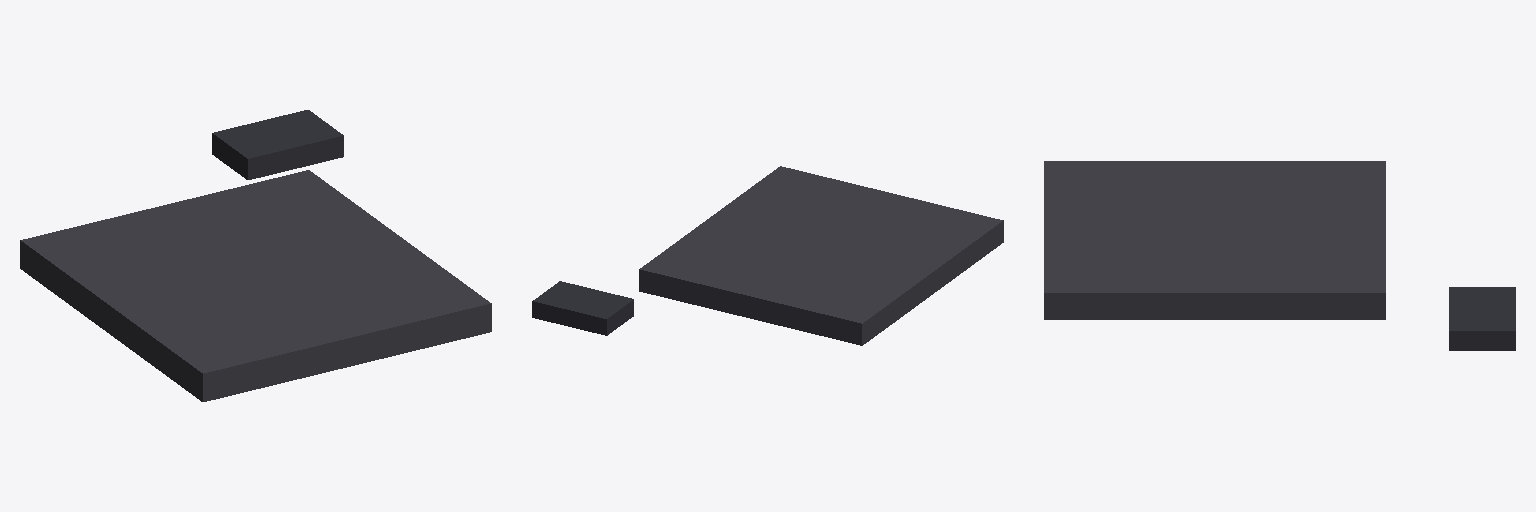
The robot description file, URDF, robot "fixtures":
<?xml version="1.0"?>
<!-- GENERATED by build_scene.py: edit the generator, not this file. -->
<!-- Static cell furniture as one fixed-base, zero-joint robot, so
     the jig clamps and the charging dock can be <gripper>s that hold
     parts and the driver in place (an object handle cannot). -->
<robot name="fixtures">
  <link name="base_link">
    <visual>
      <origin xyz="0.84 0 0.423"/>
      <geometry><box size="0.42 0.46 0.04"/></geometry>
      <material name="base_link_mat"><color rgba="0.3 0.3 0.33 1"/></material>
    </visual>
    <collision>
      <origin xyz="0.84 0 0.423"/>
      <geometry><box size="0.42 0.46 0.04"/></geometry>
    </collision>
  </link>
  <link name="rack">
    <visual>
      <origin xyz="1.08 0.36 0.418"/>
      <geometry><box size="0.14 0.09 0.03"/></geometry>
      <material name="rack_mat"><color rgba="0.25 0.25 0.28 1"/></material>
    </visual>
    <collision>
      <origin xyz="1.08 0.36 0.418"/>
      <geometry><box size="0.14 0.09 0.03"/></geometry>
    </collision>
  </link>
  <joint name="rack_fixed" type="fixed">
    <parent link="base_link"/>
    <child link="rack"/>
  </joint>
</robot>

--- Facts derived from the render (not from the file) ---
Views: 3 orthographic renders of the robot side by side, from view 1: azimuth 30°, elevation 25°; view 2: azimuth 150°, elevation 25°; view 3: azimuth 270°, elevation 25°.
Model fixtures with 2 links and 1 joints (1 fixed), rooted at base_link, posed every joint at zero.
Visible links, largest first — view 1: base_link, rack; view 2: base_link, rack; view 3: base_link, rack.
Link boxes in pixels (x1,y1,x2,y2): base_link: [20, 170, 491, 401]; rack: [212, 110, 343, 179]; base_link: [639, 166, 1003, 345]; rack: [532, 281, 633, 335]; base_link: [1044, 161, 1385, 319]; rack: [1449, 287, 1515, 350].
Size in the robot's own frame: 0.52 by 0.635 by 0.04 metres.
Geometry: primitives only (box / cylinder / sphere), no mesh files.
